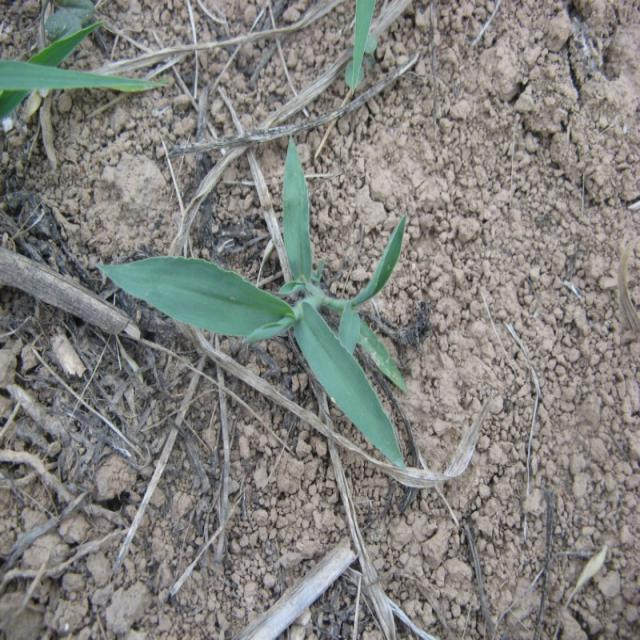bg: (99, 139, 416, 473)
